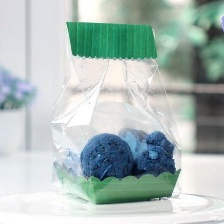snack: (41, 14, 187, 208)
